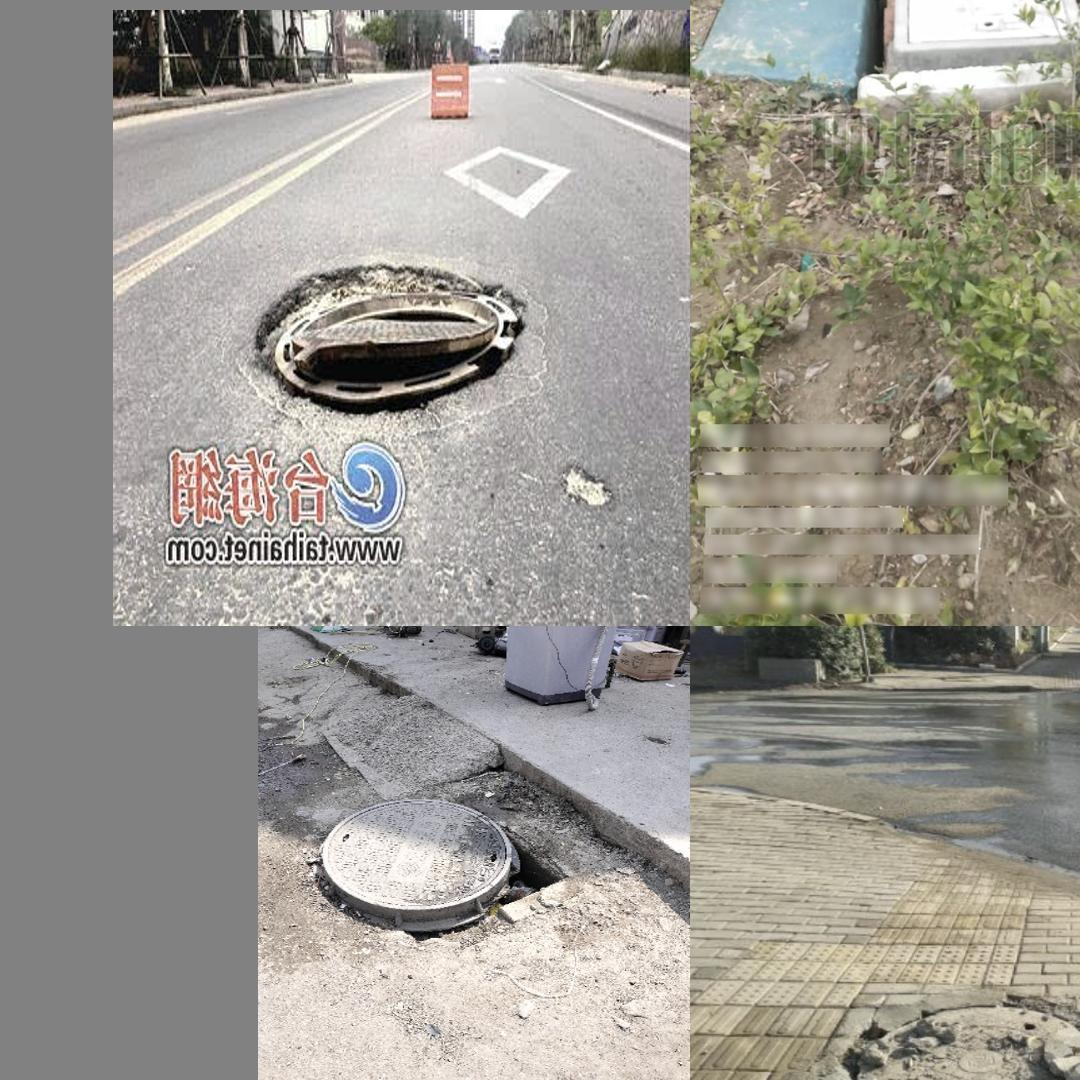circle: (214, 246, 584, 448), (310, 790, 548, 936), (808, 978, 1080, 1080), (854, 0, 1080, 99)
